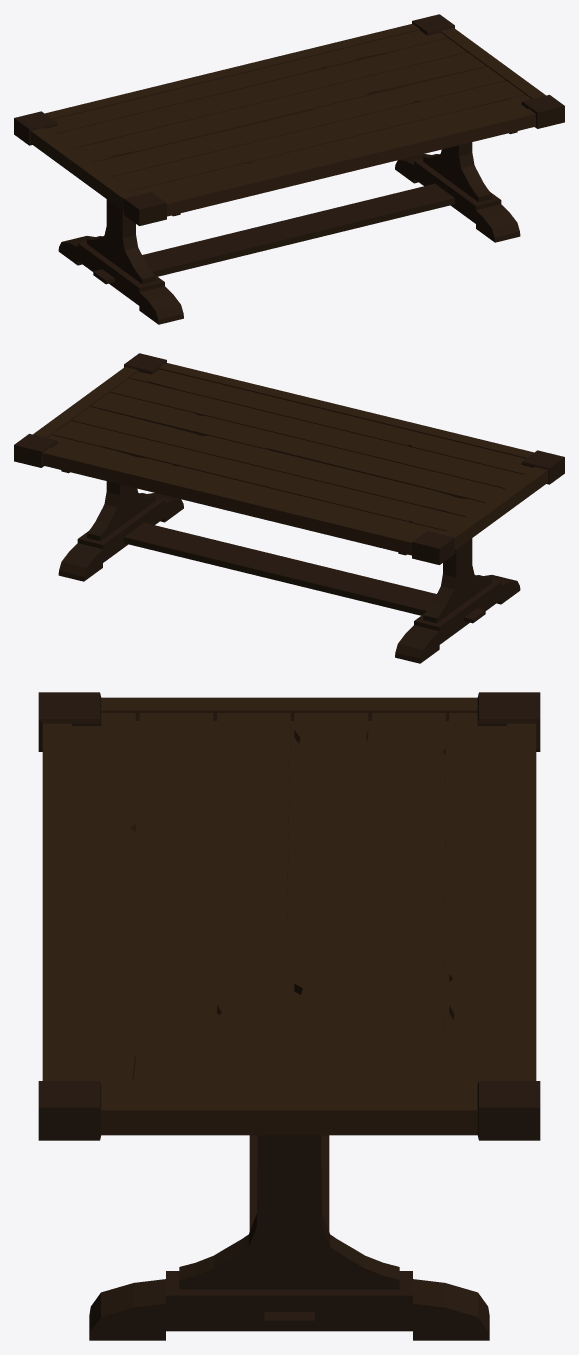
Rendered from Table.obj.
The picture shows the model from 3 angles, top to bottom: view 1: azimuth 30°, elevation 25°; view 2: azimuth 150°, elevation 25°; view 3: azimuth 270°, elevation 25°; orthographic projection. The views are drawn at different scales.
Parts seen in each view (by area): view 1: Table_Cube.001; view 2: Table_Cube.001; view 3: Table_Cube.001.
Part boxes in pixels (<box>): Table_Cube.001: <box>14,14,564,324</box>; Table_Cube.001: <box>14,353,564,663</box>; Table_Cube.001: <box>38,692,540,1340</box>.
Size of the model in its own units: 1.4 by 0.4164 by 0.7163.
